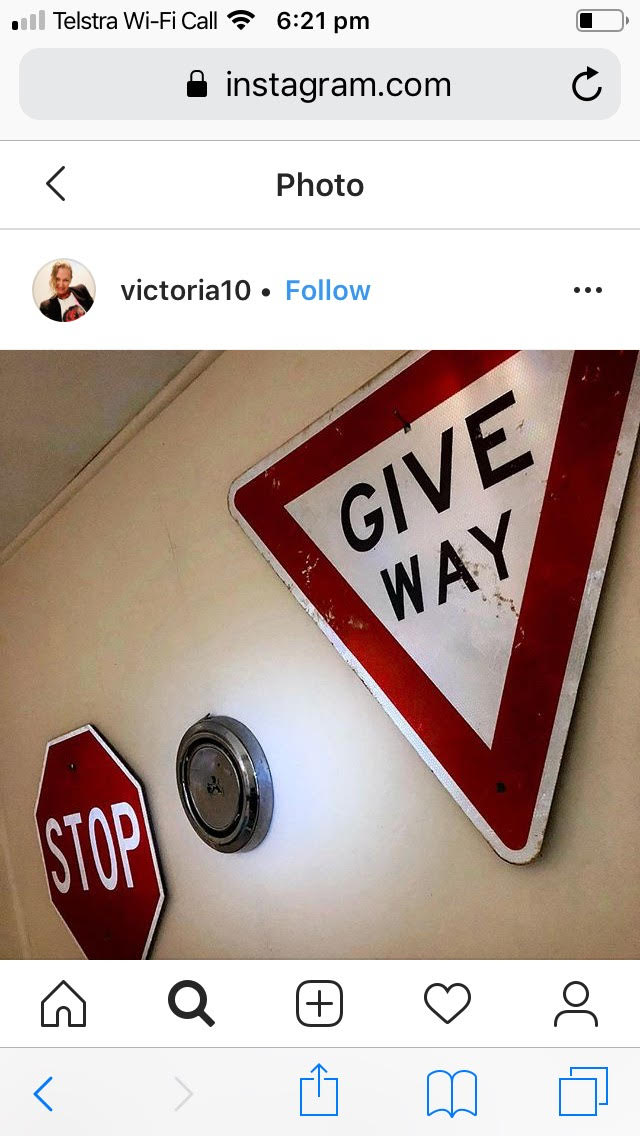giveway: (243, 361, 638, 831), (387, 353, 640, 839), (235, 473, 640, 734), (307, 434, 629, 642)
